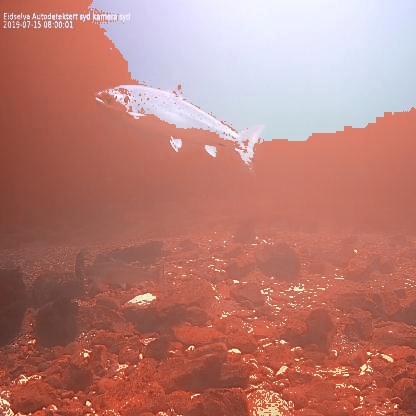salmon: (92, 78, 267, 176), (79, 253, 166, 293)
